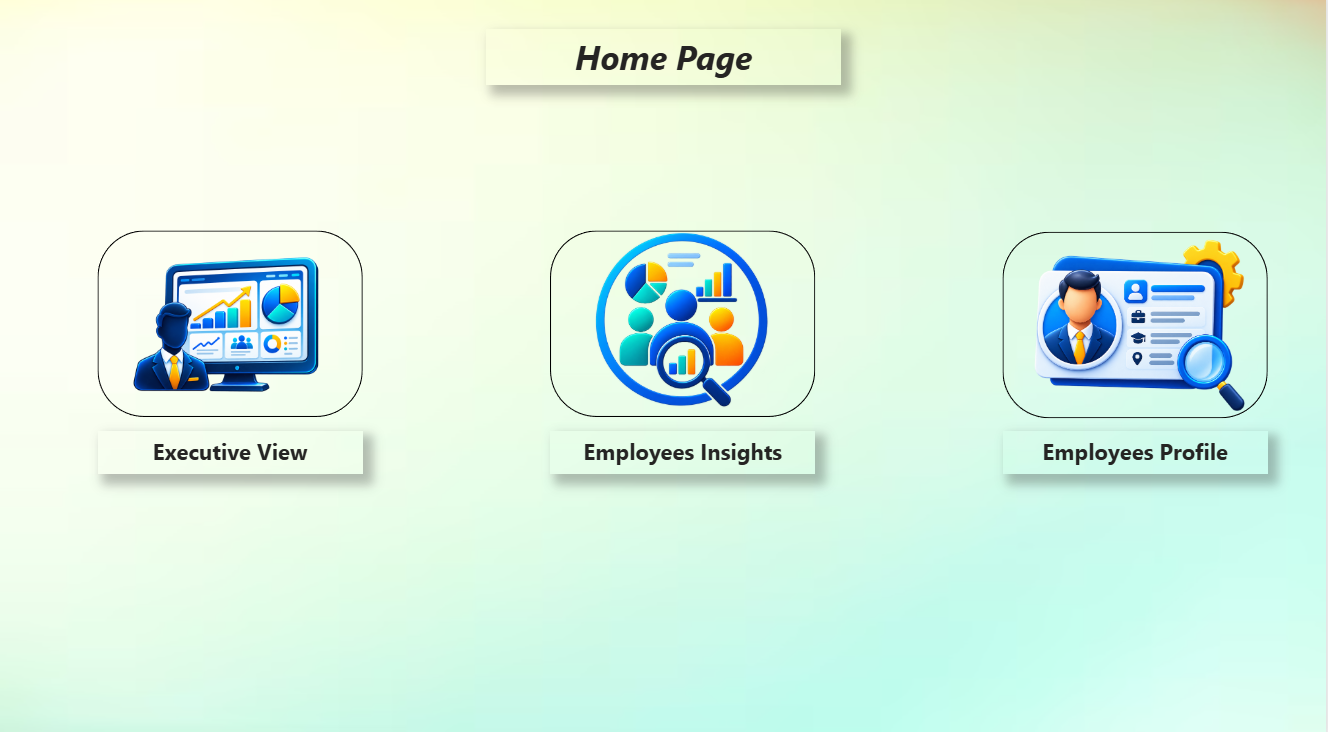

The dashboard page shown, as its layout file describes it:
{"tool":"powerbi","page":{"name":"Home Page","canvas":[1280,720],"ordinal":0},"visuals":[{"type":"image","box":[93.8,230,256.2,180],"z":0},{"type":"image","box":[967.5,230,256,180],"z":1},{"type":"image","box":[530.8,230,256,180],"z":2},{"type":"textbox","box":[93.8,422.5,256.2,42.5],"z":3},{"type":"textbox","box":[967.5,422.5,256.2,42.5],"z":4},{"type":"textbox","box":[531.2,422.5,256.2,42.5],"z":5},{"type":"textbox","box":[468.8,35,342.5,53.8],"z":6}]}

Visuals, with their boxes in screenshot pixels (x1, y1, x2, y2), scaled from the page's 1280x720 canvas onto the 1328x732 screenshot:
image: Rect(97, 234, 363, 417)
image: Rect(1004, 234, 1269, 417)
image: Rect(551, 234, 816, 417)
textbox: Rect(97, 430, 363, 473)
textbox: Rect(1004, 430, 1270, 473)
textbox: Rect(551, 430, 817, 473)
textbox: Rect(486, 36, 842, 90)
